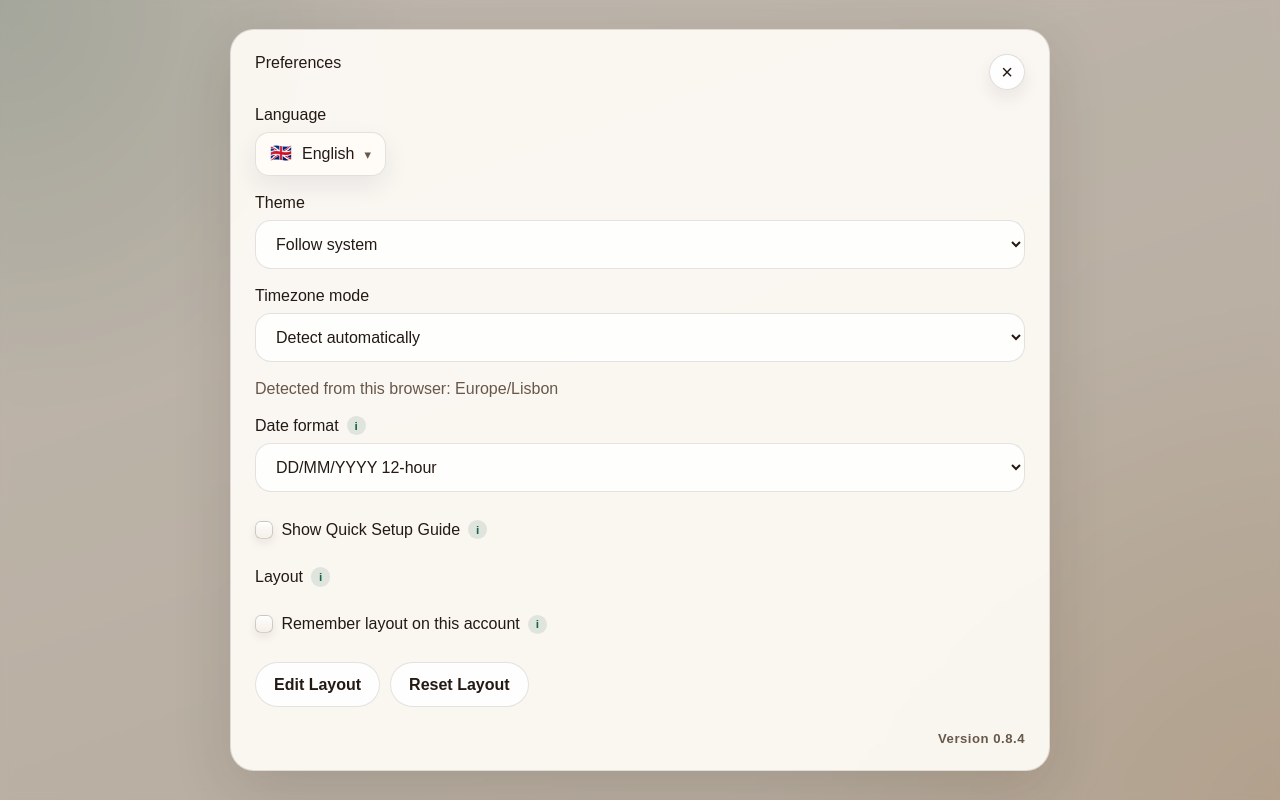
Test: PreferencesDialog › inserts a suggested token into the custom date-format input
The width and height of the screenshot is (1280, 800).
Select "Custom…" in the dropdown labelled "Date format i" at (640, 468), box [255,443,1025,492]
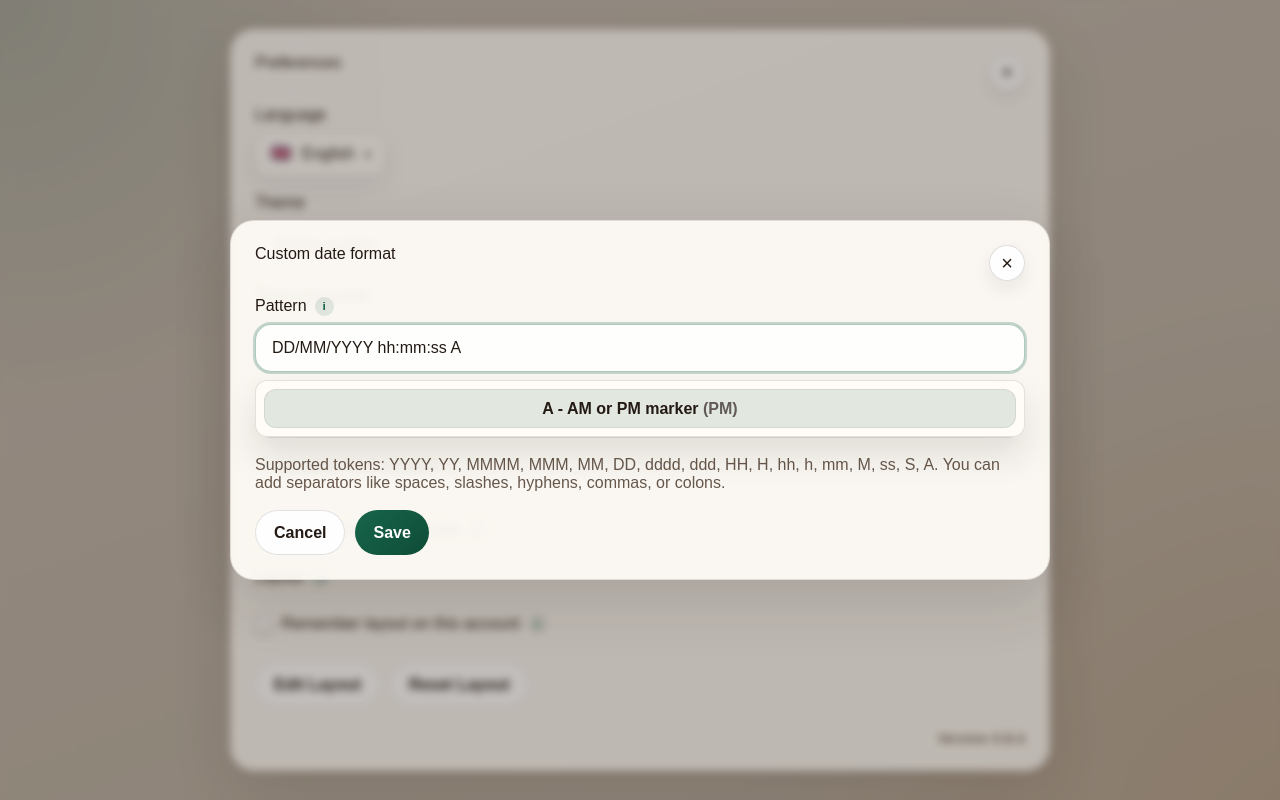
Replace the text in the dropdown with placeholder "YYYY-MM-DD HH:mm:ss" with "ddd" at (640, 348), box [255,324,1025,372]
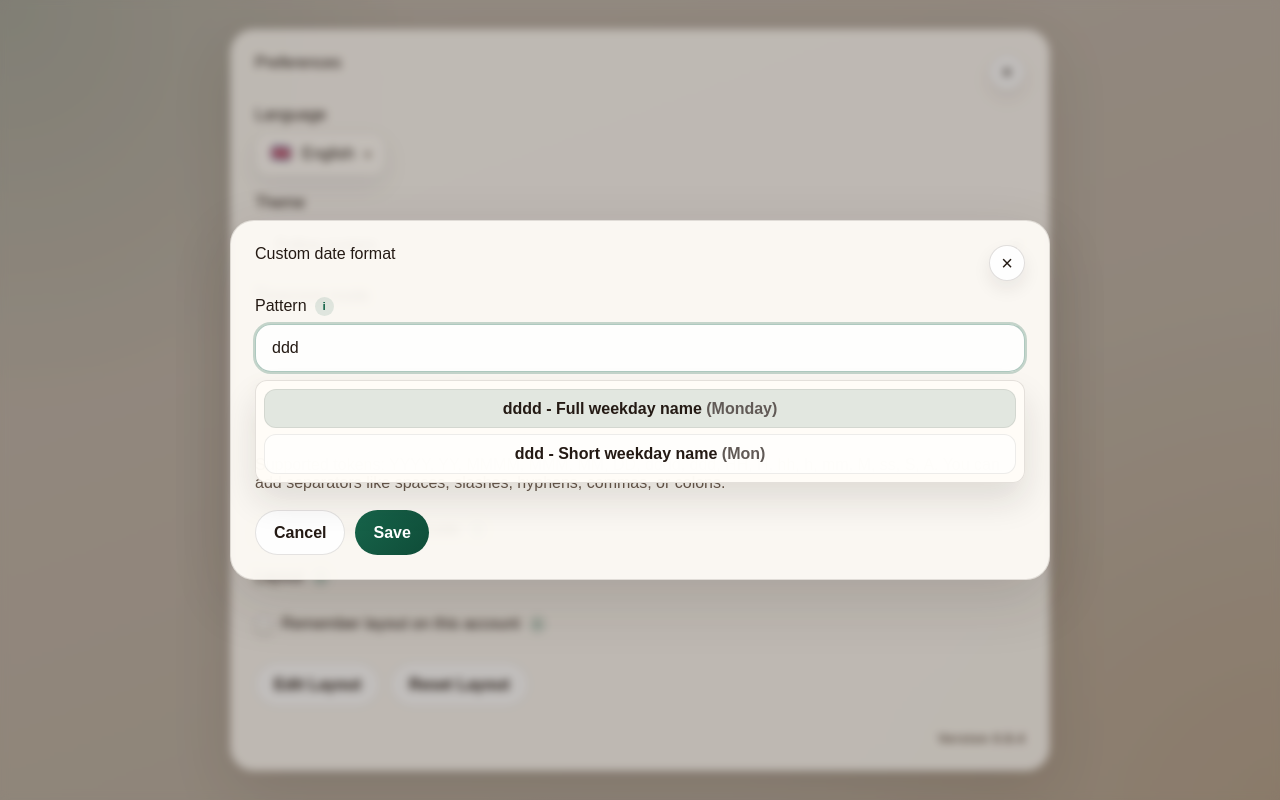
Press the mouse on the option named "dddd- Full weekday name(Monday)" at (640, 409), box [264,389,1016,428]
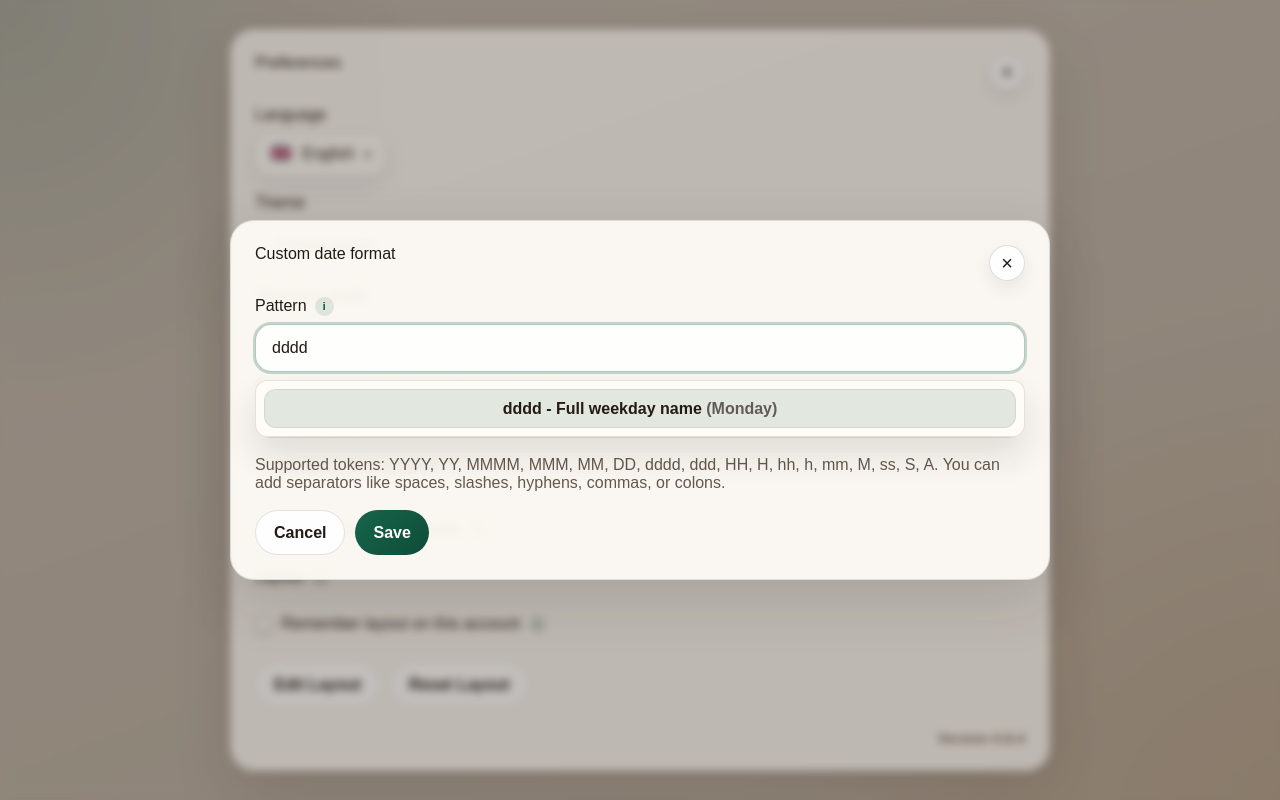
Expected: the dropdown with placeholder "YYYY-MM-DD HH:mm:ss" holds "dddd", [255,324,1025,372]
